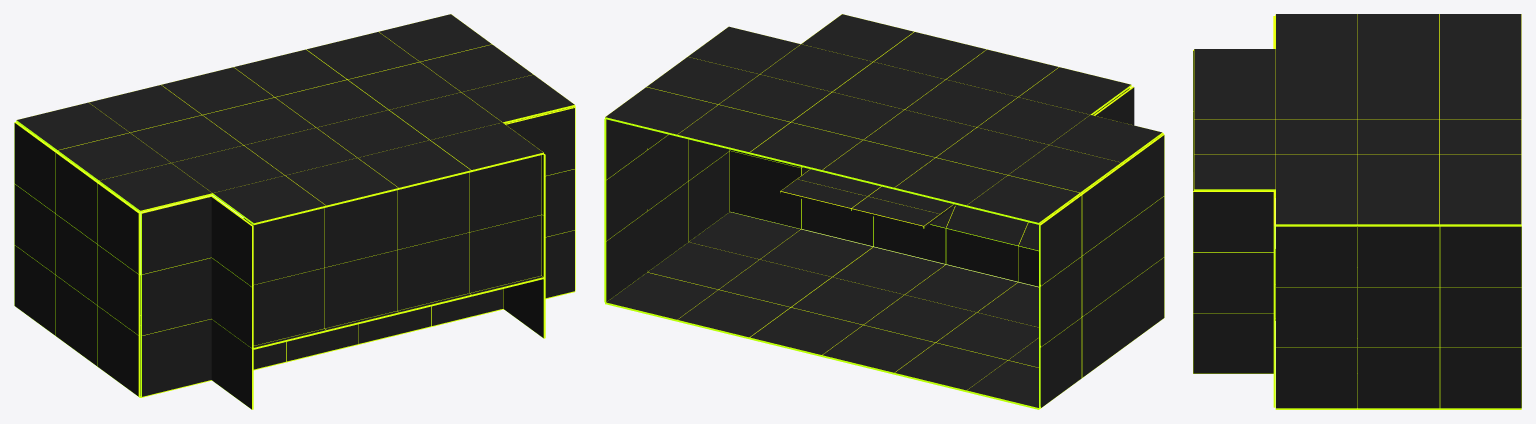
Rendered from EvokeLabsMap-LowPoly.glb.
The picture shows the model from 3 angles, left to right: view 1: azimuth 30°, elevation 25°; view 2: azimuth 150°, elevation 25°; view 3: azimuth 270°, elevation 25°; orthographic projection.
Visible parts, largest first — view 1: Ceiling, RightWall, Window_Shutters_Closed, WalkDesk, Floor; view 2: Ceiling, Floor, RightWall, WalkDesk, Desk; view 3: Ceiling, RightWall, Floor.
Boxes of the visible parts, left/top/right/bottom form: Ceiling: left=16, top=14, right=575, bottom=224; RightWall: left=14, top=106, right=575, bottom=409; Window_Shutters_Closed: left=243, top=155, right=541, bottom=345; WalkDesk: left=253, top=276, right=543, bottom=369; Floor: left=139, top=275, right=575, bottom=397; Ceiling: left=605, top=14, right=1162, bottom=224; Floor: left=605, top=212, right=1039, bottom=409; RightWall: left=604, top=86, right=1164, bottom=408; WalkDesk: left=801, top=199, right=1055, bottom=286; Desk: left=780, top=169, right=955, bottom=228; Ceiling: left=1194, top=14, right=1521, bottom=225; RightWall: left=1193, top=15, right=1521, bottom=408; Floor: left=1275, top=226, right=1521, bottom=409.
Size of the model in its own units: 6.59 by 2.7 by 4.34.
